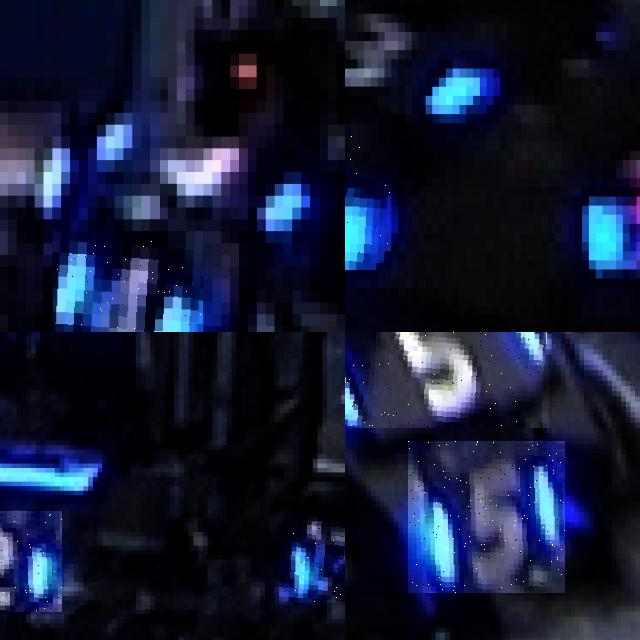B2: (0, 511, 62, 611), (279, 511, 345, 602)
B3: (345, 123, 391, 269)
B4: (52, 231, 203, 332)
B5: (408, 441, 565, 593), (345, 332, 549, 428)
